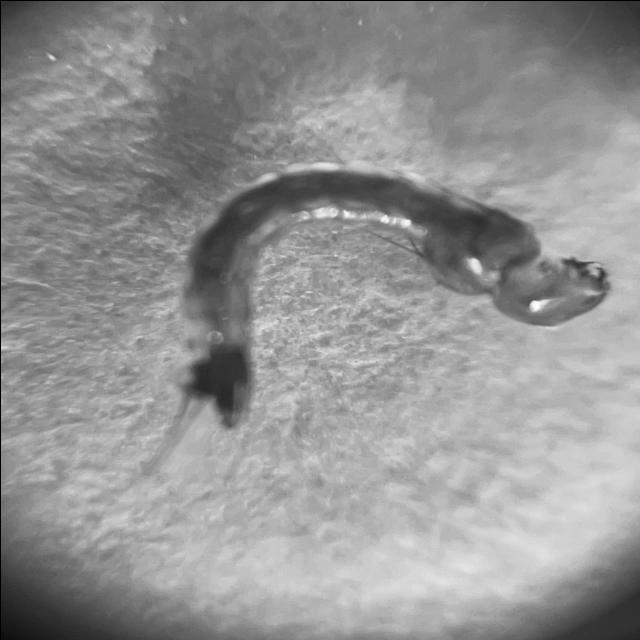larvas: (183, 158, 607, 417)
